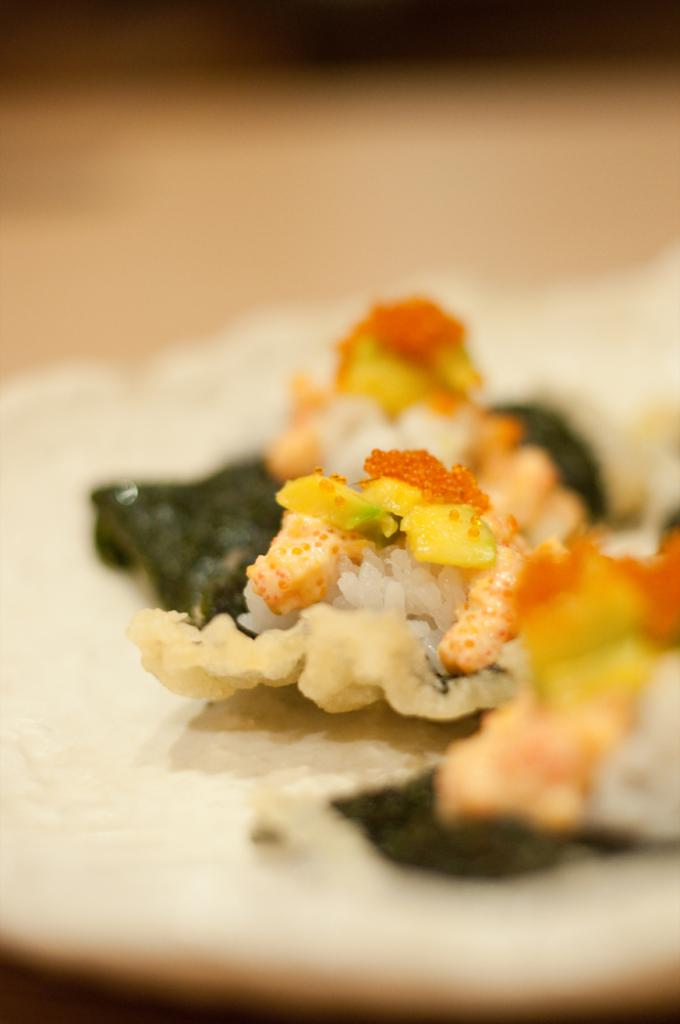sushi: (75, 278, 679, 861)
